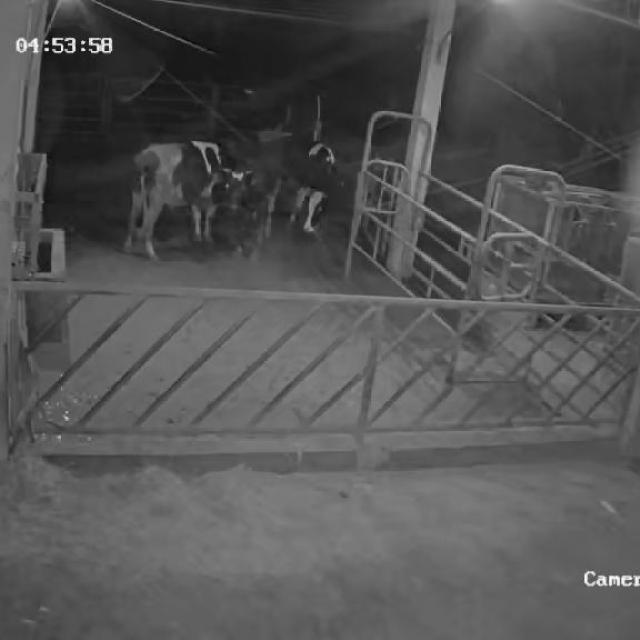lying down: (210, 166, 256, 258)
standing: (124, 141, 234, 260), (231, 137, 342, 243)
